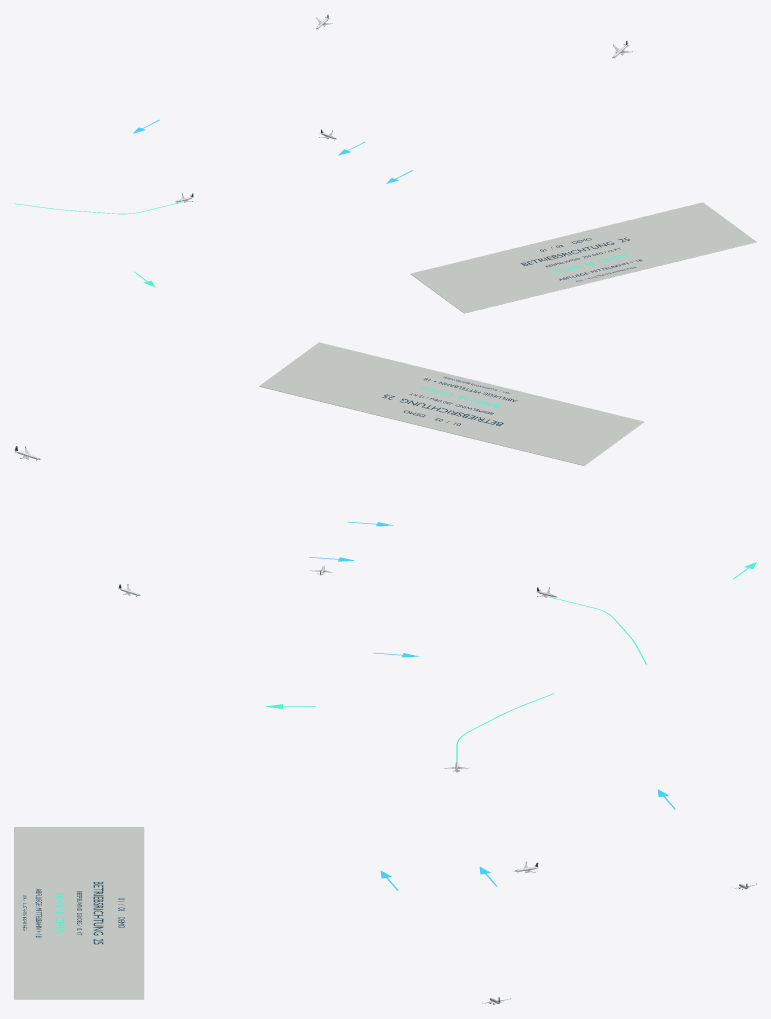
Rendered from airport-traffic-demo.glb.
The picture shows the model from 3 angles, top to bottom: view 1: azimuth 30°, elevation 25°; view 2: azimuth 150°, elevation 25°; view 3: azimuth 270°, elevation 25°; orthographic projection. The views are drawn at different scales.
Visible parts, largest first — view 1: State card; view 2: State card; view 3: State card.
Part boxes in pixels (x1,y1,x2,y2): State card: (410, 202, 756, 313); State card: (259, 342, 643, 465); State card: (14, 827, 144, 999).
Size of what is drawn, in the model's own units: 707 by 42.19 by 638.
